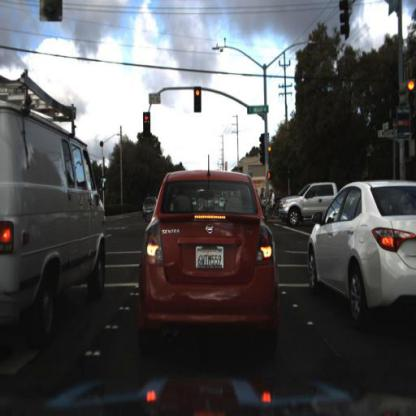biker: (265, 183, 277, 224)
car: (1, 72, 113, 333), (142, 170, 277, 349), (303, 174, 416, 319), (280, 178, 340, 228), (280, 180, 338, 224), (142, 194, 161, 221)
trafficLight-Red: (405, 79, 416, 114), (194, 87, 202, 116), (266, 144, 274, 162), (408, 77, 416, 95)
trafficLight-RedLeft: (143, 111, 151, 141), (145, 111, 151, 127)
truck: (2, 74, 108, 331)
